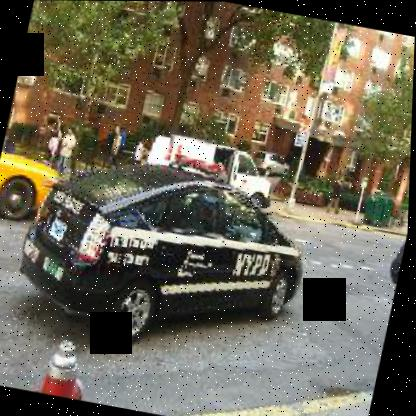emergency: (0, 125, 332, 375)
not_emergency: (126, 118, 299, 222), (0, 134, 72, 234)
